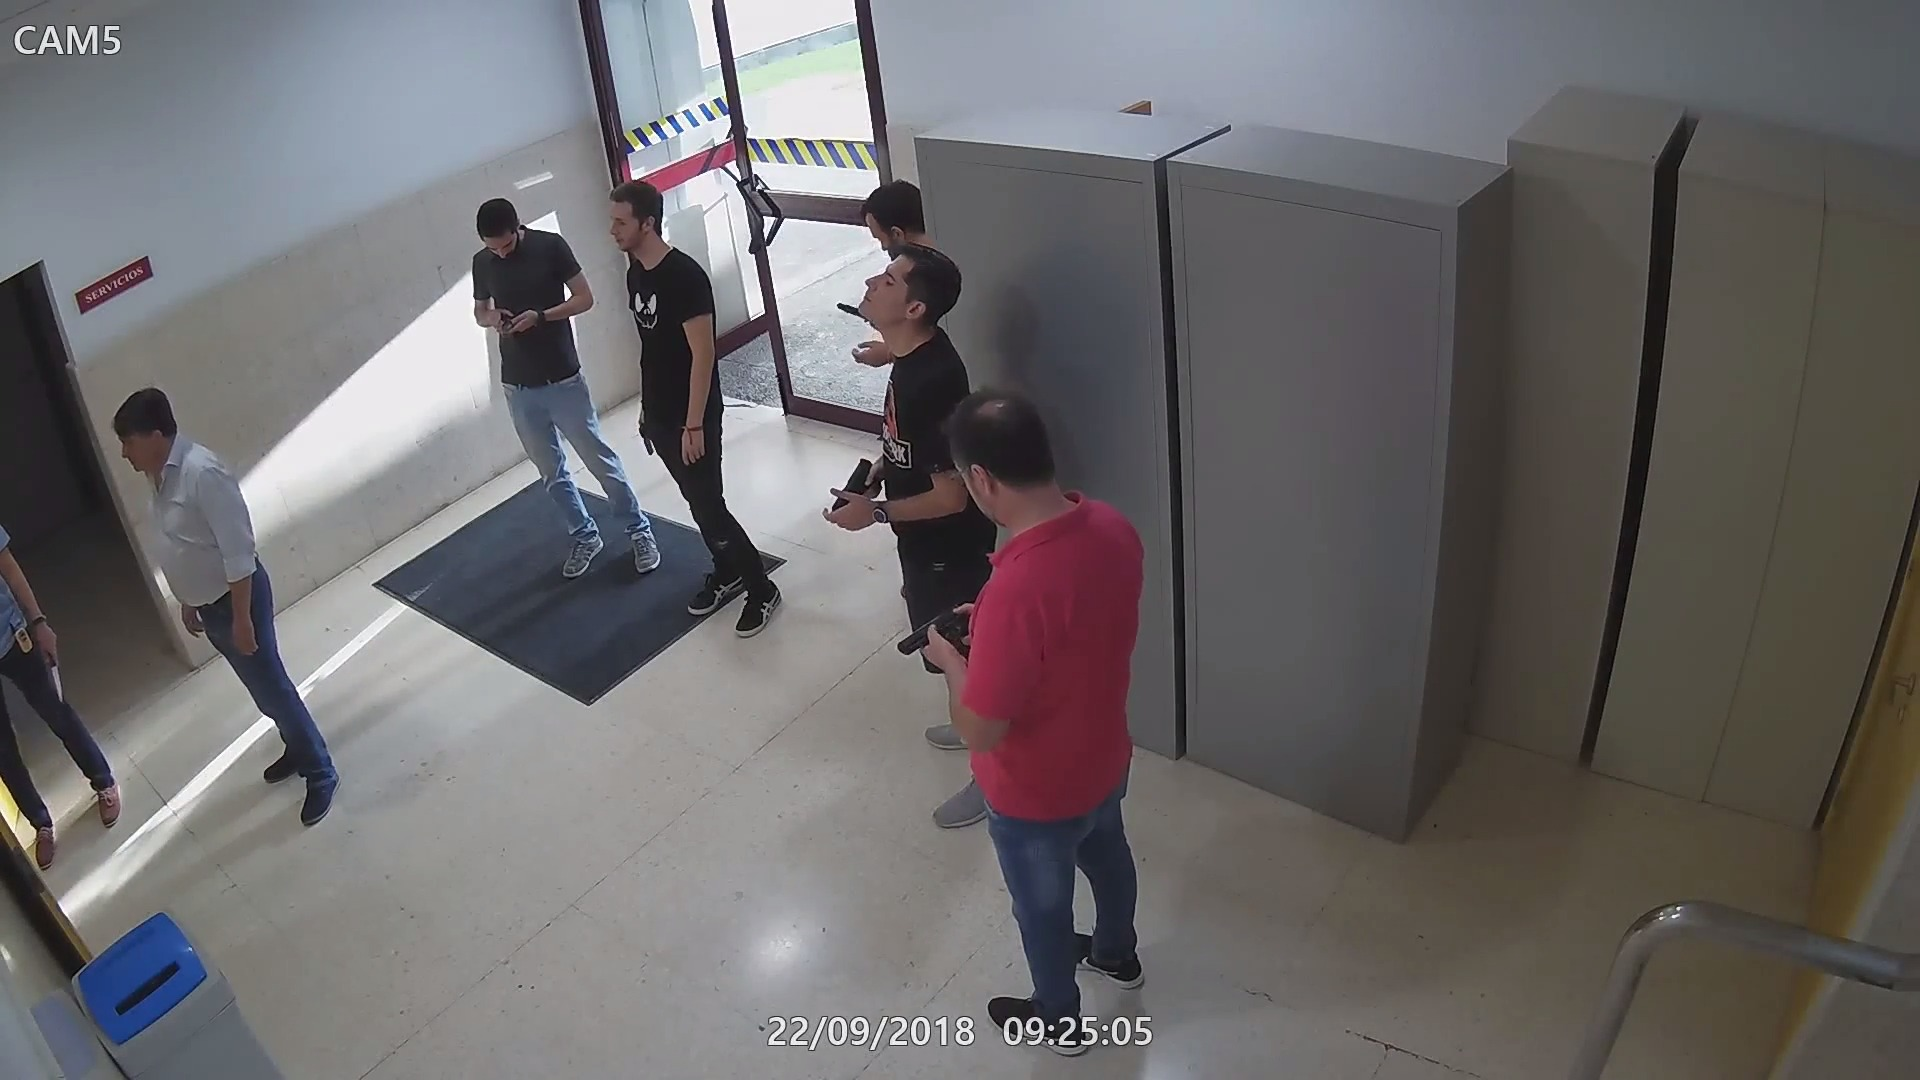knife: (32, 622, 71, 705)
pistol: (885, 601, 978, 679), (822, 454, 887, 539), (487, 302, 546, 334), (829, 297, 876, 334), (633, 415, 659, 456)
